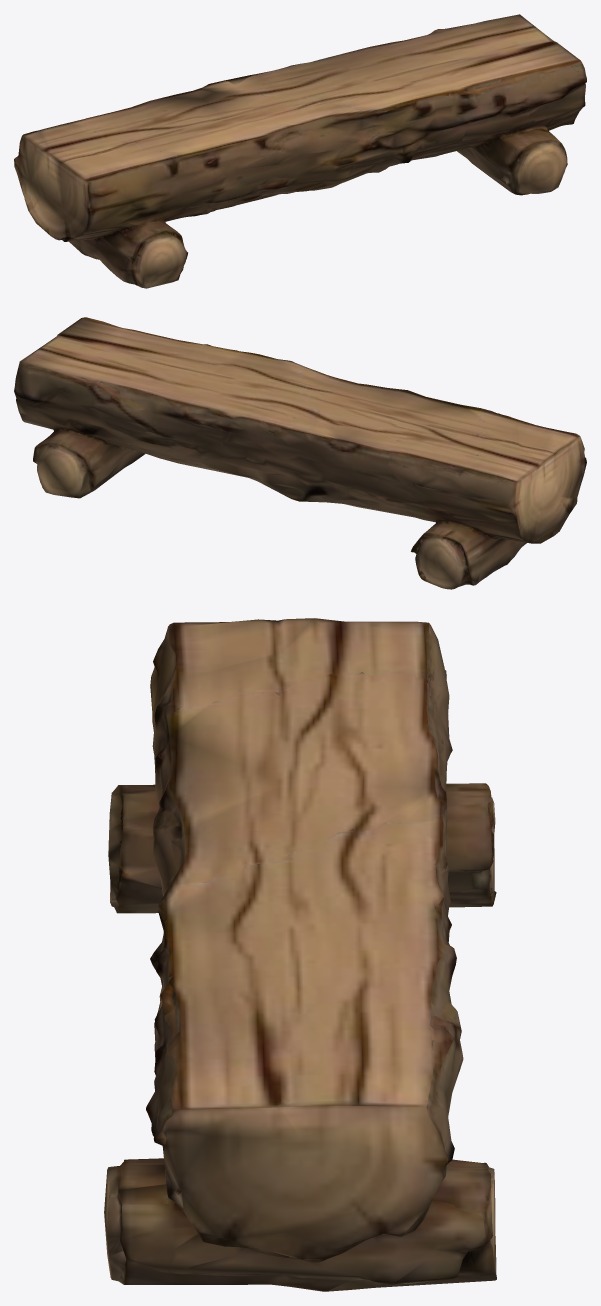
Rendered from Log_Bench.glb.
3 views of the same model, one above another, from view 1: azimuth 30°, elevation 25°; view 2: azimuth 150°, elevation 25°; view 3: azimuth 270°, elevation 25° (orthographic). The views are drawn at different scales.
Size of the model in its own units: 2 by 0.4305 by 0.6757.
Materials: 1 (1 with a texture image).
